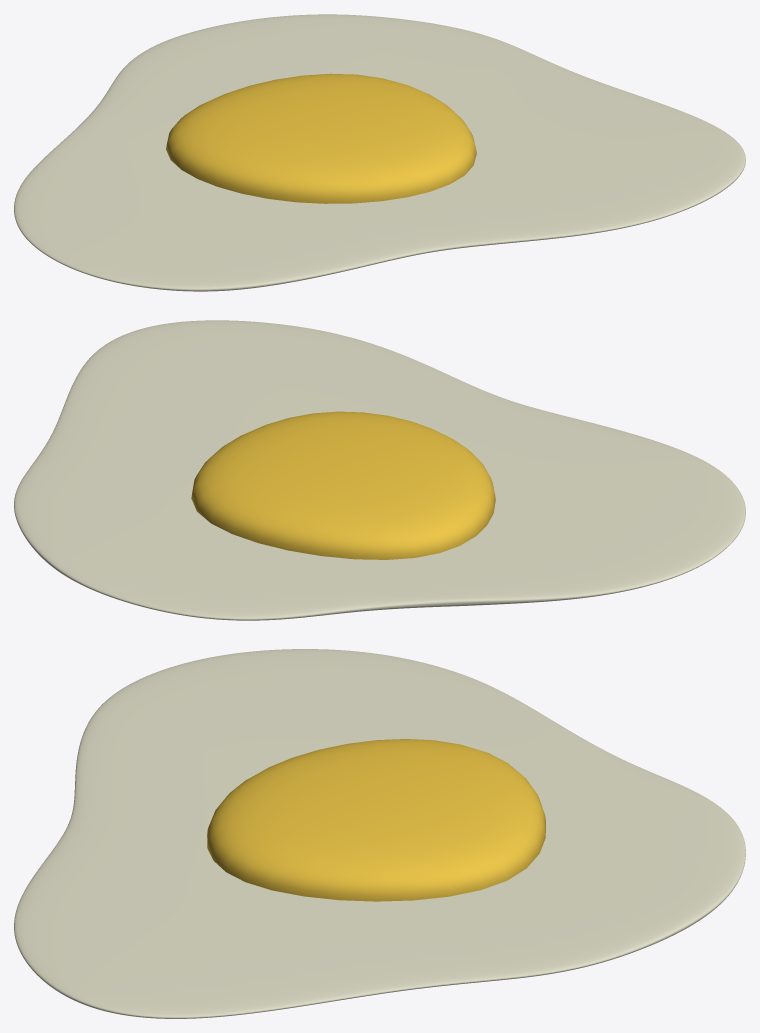
File: Egg.fbx
3 renders of one model, top to bottom at view 1: azimuth 30°, elevation 25°; view 2: azimuth 150°, elevation 25°; view 3: azimuth 270°, elevation 25°, orthographic. The views are drawn at different scales.
Parts seen in each view (by area): view 1: Plane, Cube; view 2: Plane, Cube; view 3: Plane, Cube.
Boxes of the visible parts, bbox=[...] form: Plane: bbox=[14, 14, 745, 291]; Cube: bbox=[166, 73, 476, 203]; Plane: bbox=[14, 320, 745, 620]; Cube: bbox=[191, 411, 495, 559]; Plane: bbox=[14, 649, 745, 1018]; Cube: bbox=[207, 739, 545, 901].
Size of the model in its own units: 377 by 21.4 by 317.
